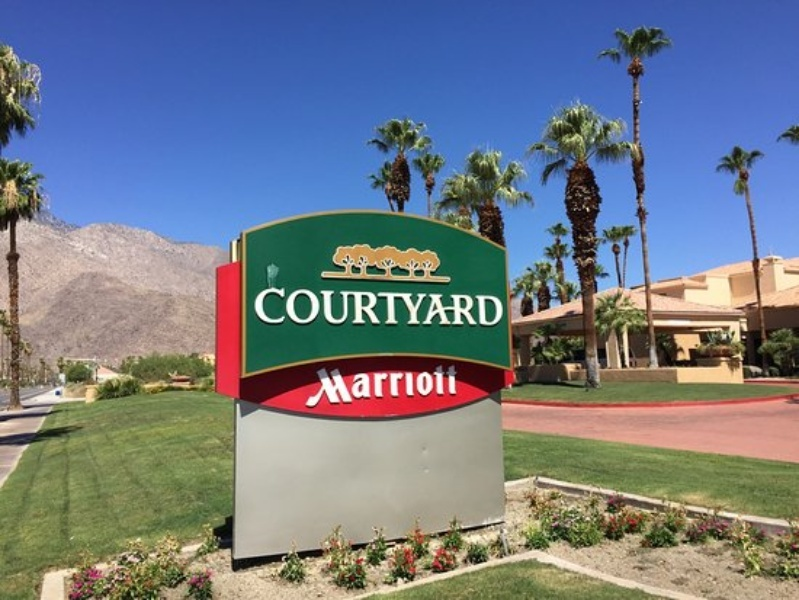text: (321, 364, 336, 409), (337, 364, 352, 409), (353, 364, 368, 409), (369, 364, 384, 409), (385, 364, 400, 409), (401, 364, 416, 409), (417, 364, 432, 409), (433, 364, 448, 409), (257, 287, 272, 326), (273, 287, 288, 326), (289, 287, 304, 326), (305, 287, 320, 326), (321, 287, 336, 326), (337, 287, 352, 326), (353, 287, 368, 326), (369, 287, 384, 326), (385, 287, 400, 326), (401, 287, 416, 326), (417, 287, 432, 326), (433, 287, 448, 326), (449, 287, 464, 326), (465, 287, 480, 326), (481, 287, 496, 326), (308, 364, 320, 409), (449, 364, 458, 409), (497, 287, 503, 326), (252, 287, 256, 326)
